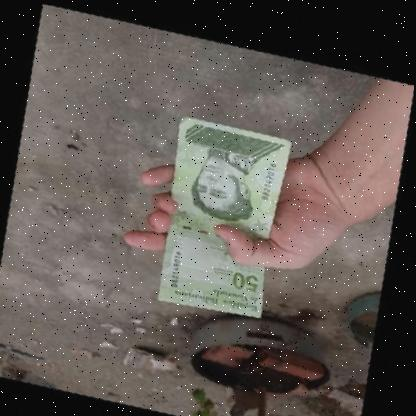fifty-front-vef: (133, 98, 311, 331)
